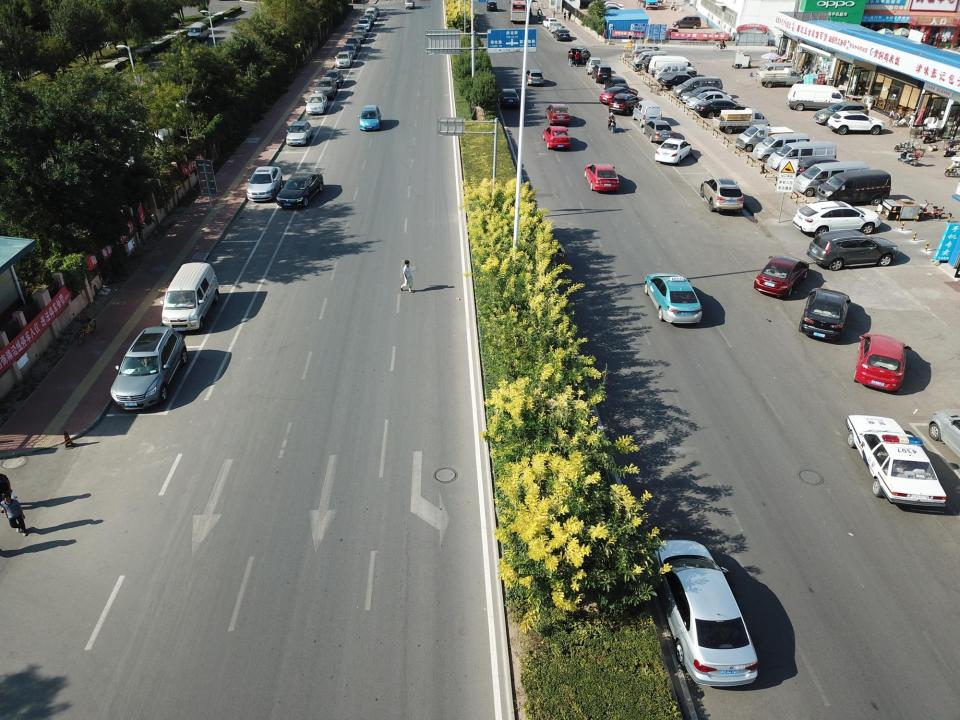bus: (509, 0, 527, 23)
car: (654, 539, 758, 688), (845, 415, 946, 514), (110, 326, 188, 411), (806, 229, 898, 272), (853, 332, 911, 392), (70, 140, 149, 184), (792, 200, 882, 238), (644, 272, 702, 324), (798, 288, 851, 342), (753, 255, 809, 298), (110, 115, 182, 148), (142, 85, 214, 115), (276, 172, 324, 210), (793, 155, 853, 181), (826, 110, 884, 136), (700, 178, 744, 212), (812, 100, 869, 126), (246, 166, 283, 202), (694, 99, 751, 118), (584, 163, 620, 192), (654, 138, 692, 165), (678, 86, 728, 105), (685, 91, 734, 110), (608, 92, 642, 115), (642, 120, 674, 143), (660, 73, 706, 89), (285, 121, 313, 146), (599, 87, 637, 105), (357, 105, 382, 132), (542, 126, 571, 149), (641, 56, 678, 73), (314, 76, 338, 100), (304, 93, 329, 115), (545, 104, 570, 126), (603, 77, 630, 95), (497, 88, 520, 109), (631, 49, 664, 62), (672, 16, 701, 30), (322, 70, 344, 88), (568, 47, 590, 64), (525, 69, 544, 87), (335, 51, 353, 68), (340, 43, 357, 60), (344, 37, 362, 52), (350, 30, 366, 44), (553, 28, 570, 41), (357, 17, 371, 32), (602, 1, 624, 10), (603, 5, 625, 14), (603, 4, 627, 12), (542, 18, 559, 29), (360, 14, 374, 27), (603, 3, 625, 11), (353, 25, 367, 37), (549, 22, 563, 34), (666, 28, 680, 40), (367, 6, 379, 17), (486, 1, 497, 12)
truck: (736, 123, 795, 153), (712, 108, 770, 134), (757, 67, 803, 89), (404, 0, 415, 9)
van: (162, 262, 220, 334), (793, 161, 870, 198), (814, 169, 891, 205), (767, 140, 837, 174), (785, 83, 847, 112), (753, 132, 810, 163), (672, 76, 723, 99), (647, 55, 697, 77), (632, 100, 662, 128), (754, 63, 794, 82), (633, 50, 668, 70), (654, 63, 688, 83), (632, 43, 665, 60), (186, 22, 210, 42), (591, 64, 612, 83), (586, 57, 603, 75), (364, 7, 377, 21)
